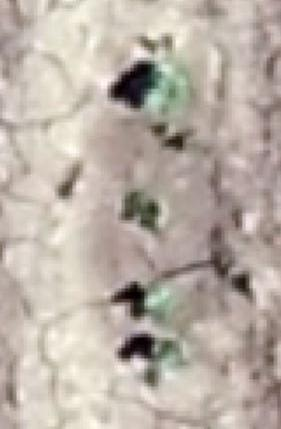cotton: (147, 291, 170, 318), (158, 66, 186, 88), (149, 90, 180, 108), (149, 360, 163, 382), (159, 343, 178, 358), (143, 205, 157, 225)
